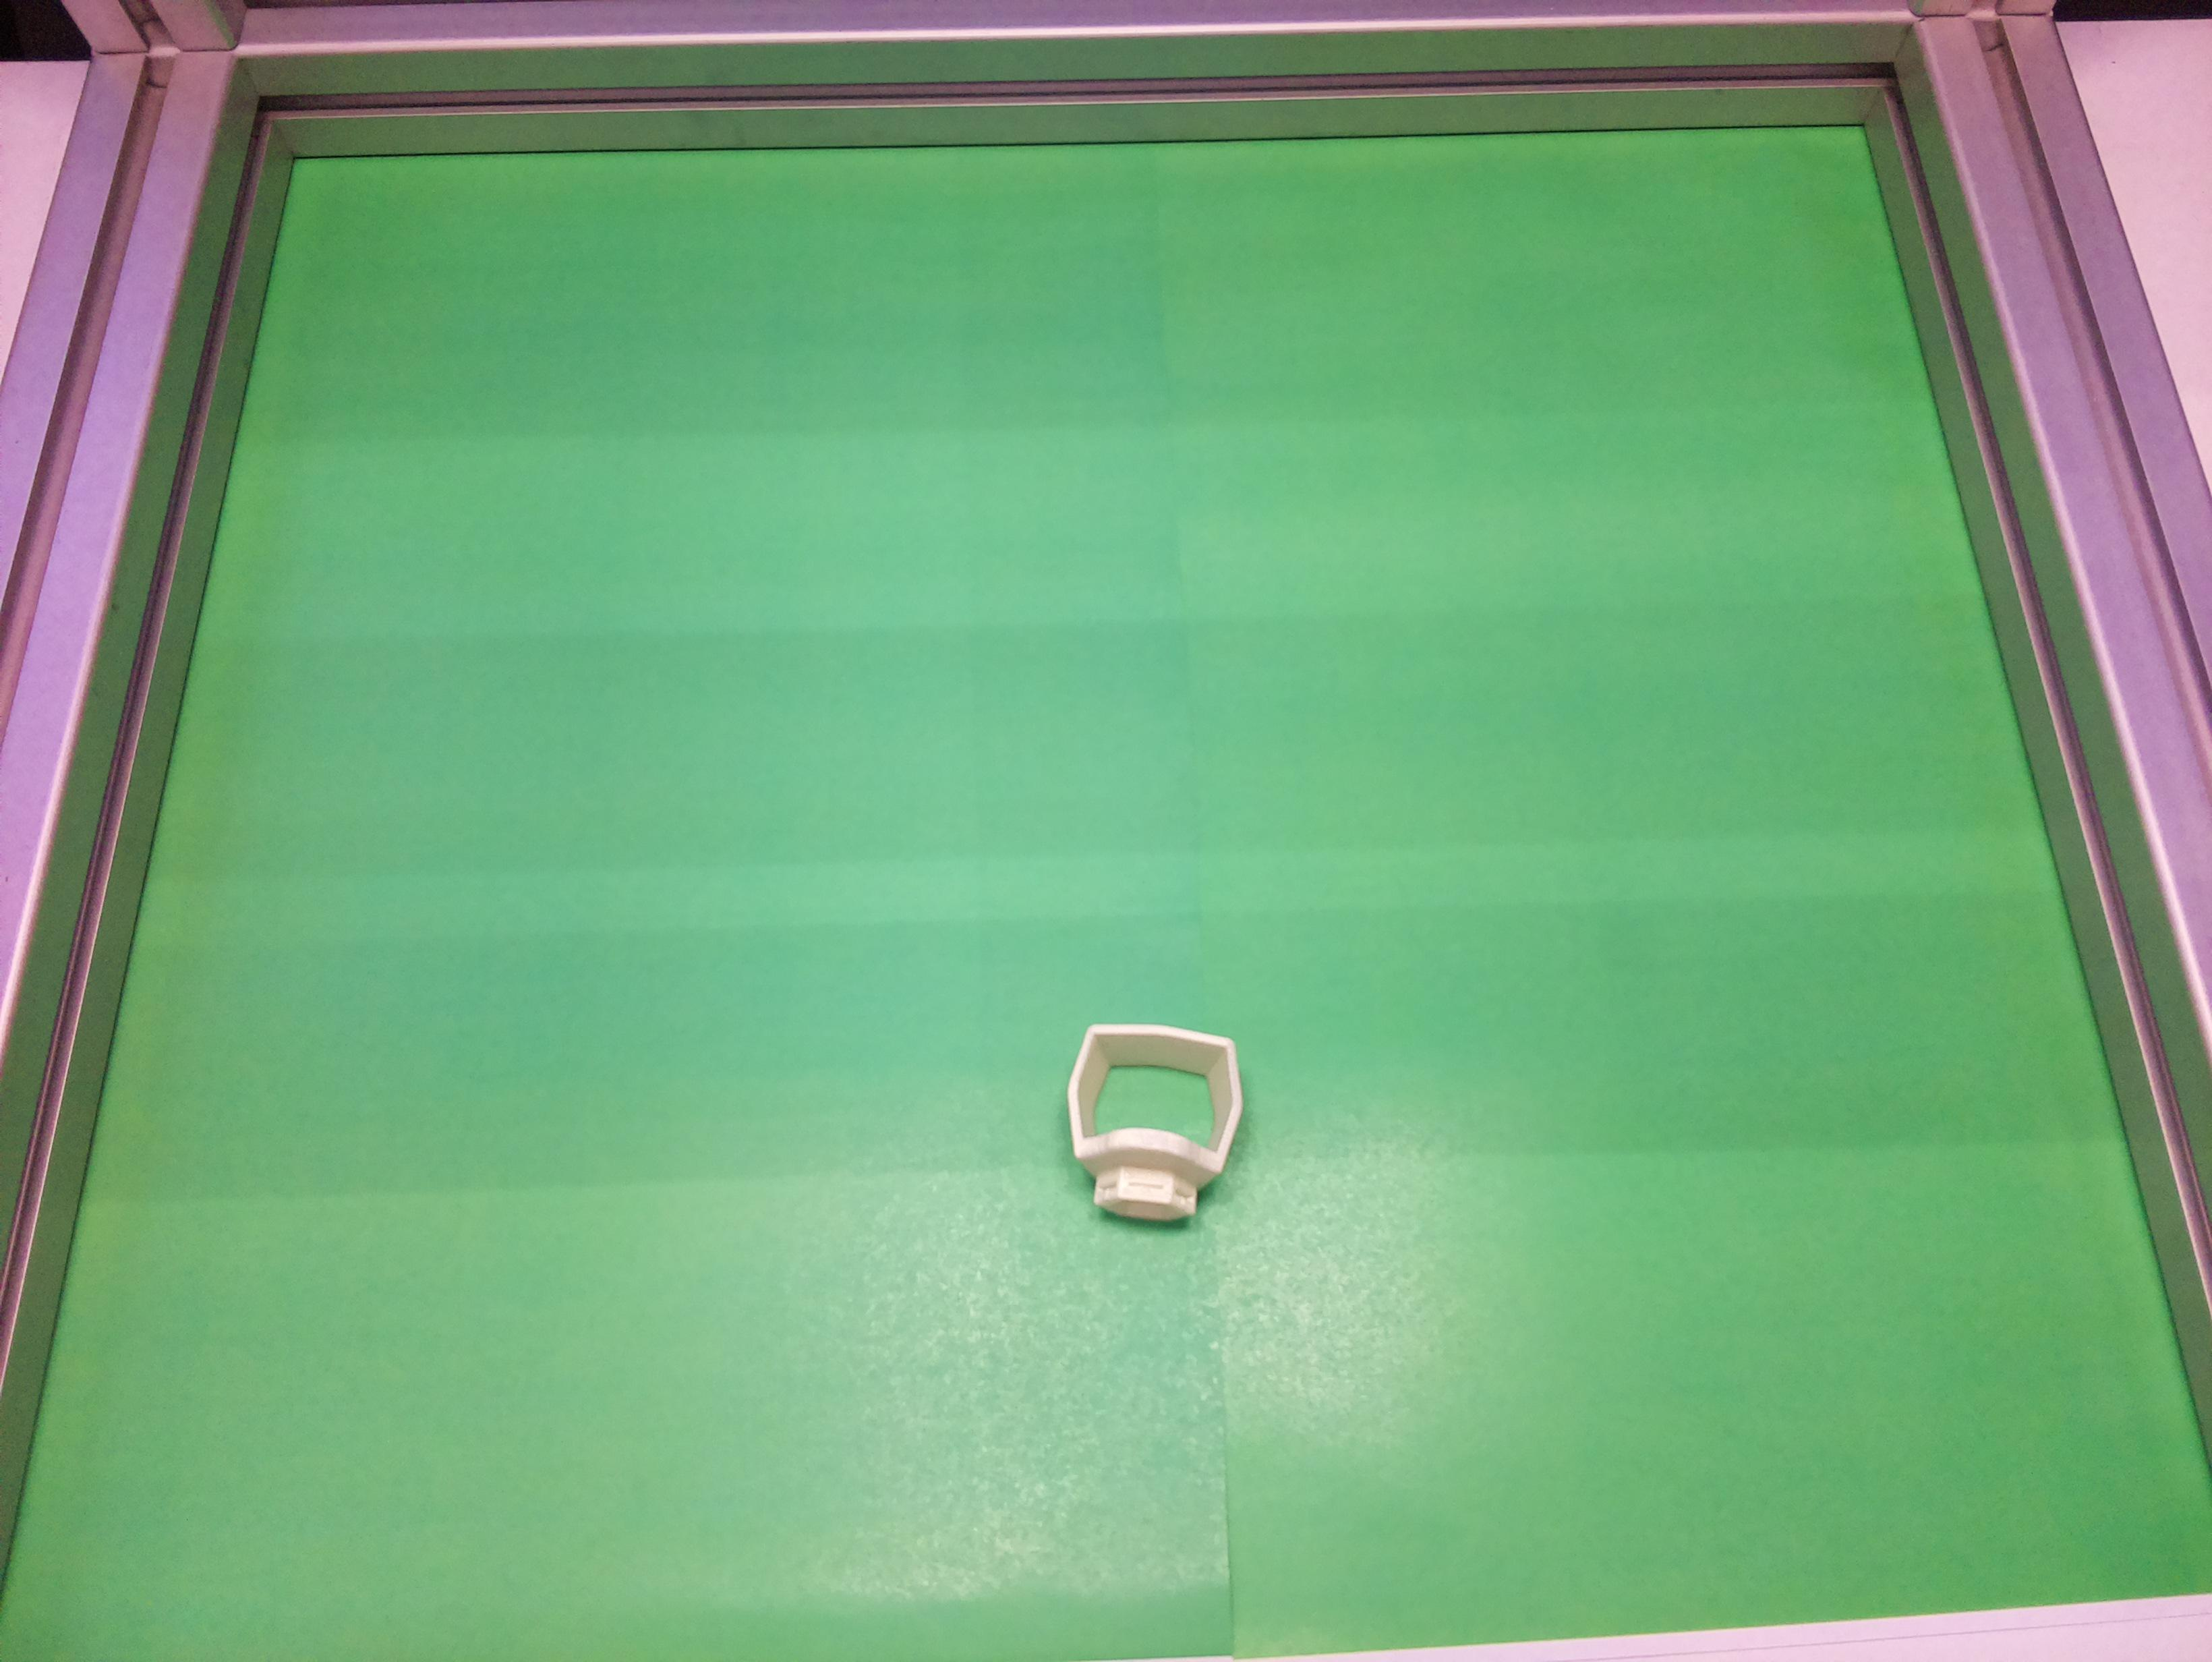tool_holder: (1065, 1025, 1243, 1220)
